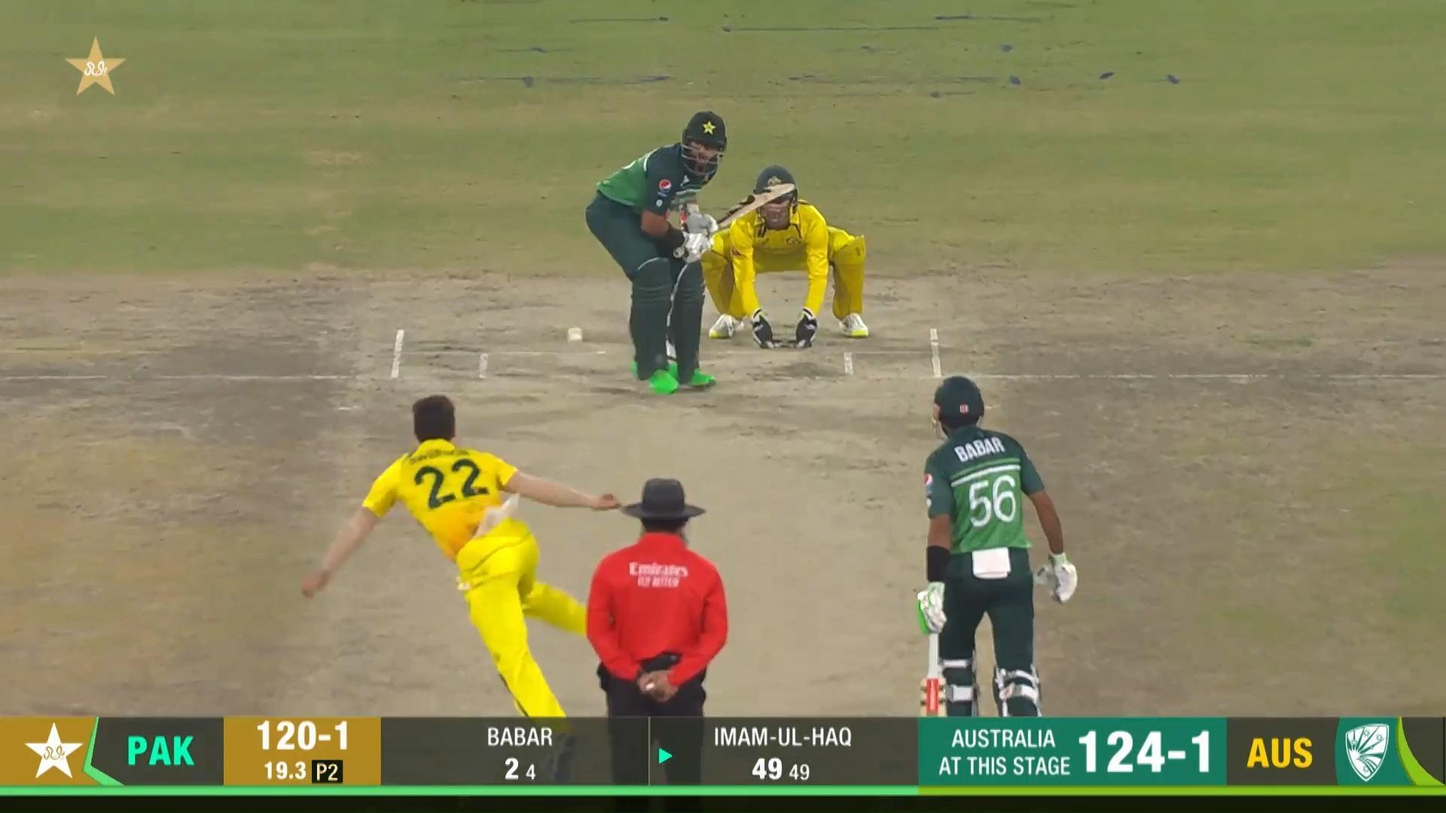BM 1: (586, 111, 796, 396)
BO: (297, 394, 633, 801)
